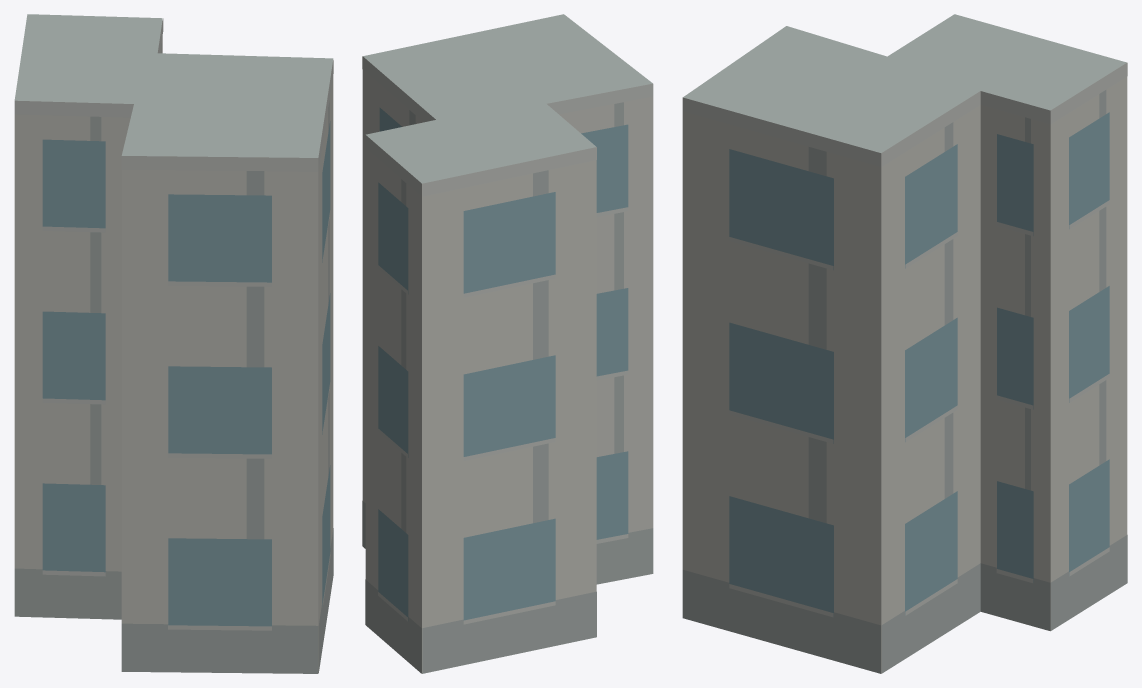
The model's file is survey-upis-32821673.glb.
The picture shows the model from 3 angles, left to right: view 1: azimuth 30°, elevation 25°; view 2: azimuth 150°, elevation 25°; view 3: azimuth 270°, elevation 25°; orthographic projection. The views are drawn at different scales.
Parts seen in each view (by area): view 1: survey-upis-32821673.tmp; view 2: survey-upis-32821673.tmp; view 3: survey-upis-32821673.tmp.
Part boxes in pixels (x1,y1,x2,y2): survey-upis-32821673.tmp: (14,14,333,673); survey-upis-32821673.tmp: (362,14,653,673); survey-upis-32821673.tmp: (682,14,1127,673).
Bounding box in the file's own units: 5.25 × 9.15 × 7.09.
